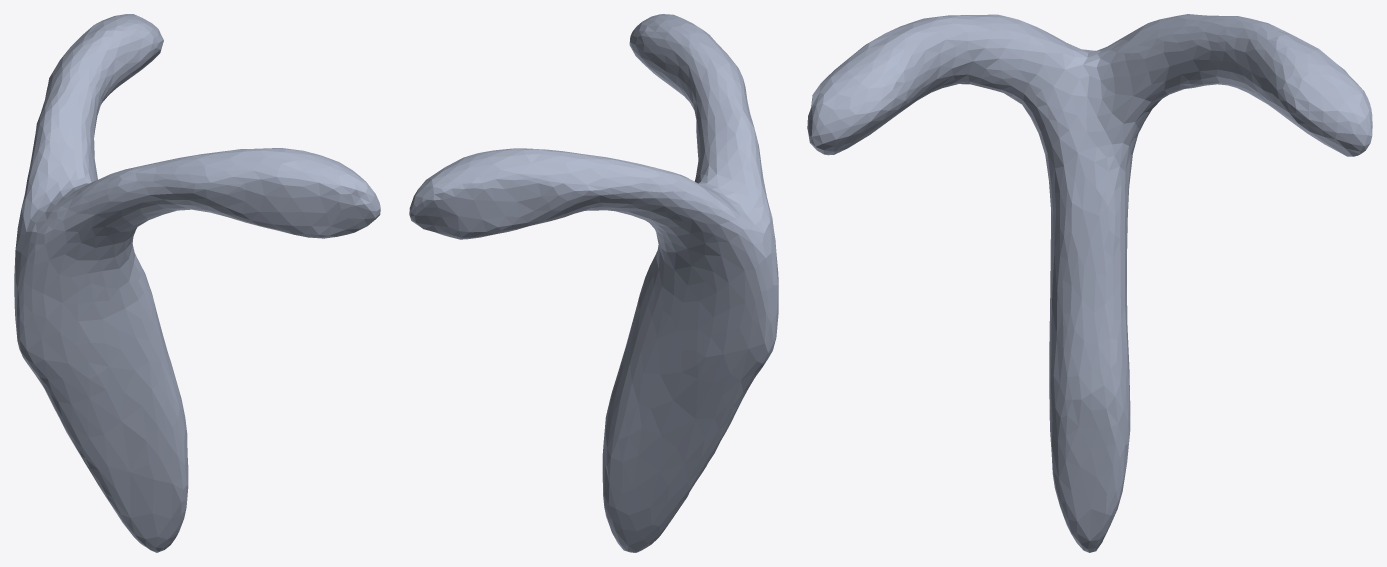
3 views of the same model, side by side, from view 1: azimuth 30°, elevation 25°; view 2: azimuth 150°, elevation 25°; view 3: azimuth 270°, elevation 25° (orthographic). The views are drawn at different scales.
Visible parts, largest first — view 1: 904.obj; view 2: 904.obj; view 3: 904.obj.
Part boxes in pixels (x1,y1,x2,y2): 904.obj: (14, 14, 380, 552); 904.obj: (409, 14, 778, 552); 904.obj: (807, 14, 1372, 552).
Size of the model in its own units: 1812 by 3155 by 3042.
